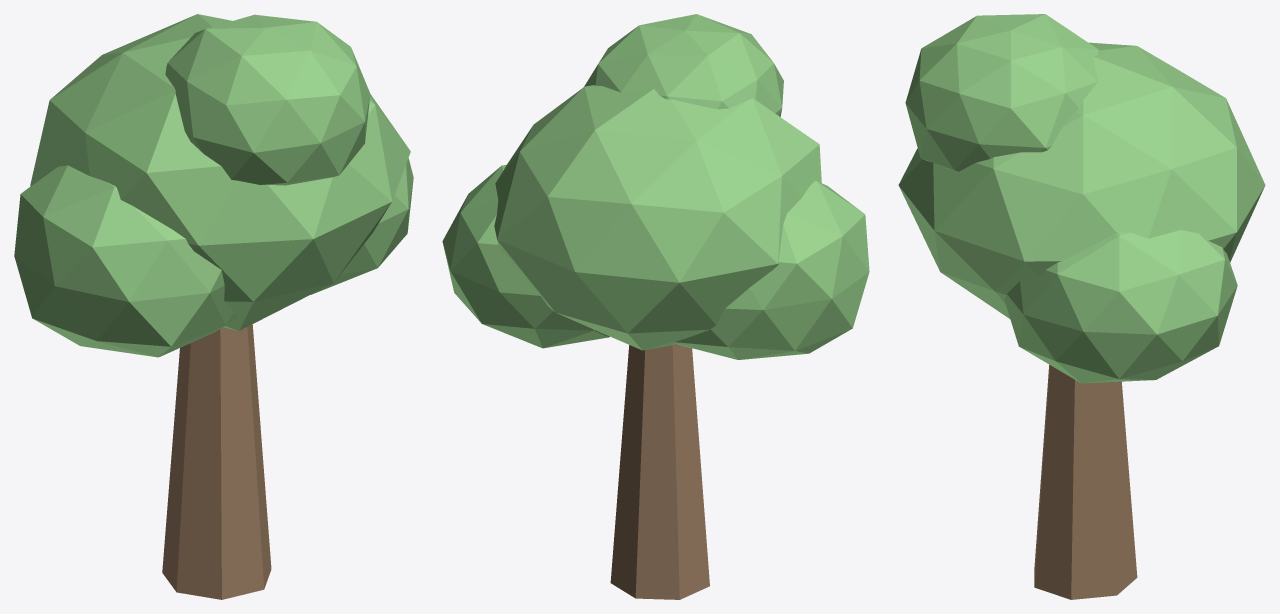
The model's file is tree_v2.glb.
3 views of the same model, side by side, from view 1: azimuth 30°, elevation 25°; view 2: azimuth 150°, elevation 25°; view 3: azimuth 270°, elevation 25° (orthographic). The views are drawn at different scales.
Parts seen in each view (by area): view 1: Tree_Canopy, Tree_Trunk; view 2: Tree_Canopy, Tree_Trunk; view 3: Tree_Canopy, Tree_Trunk.
Part boxes in pixels (box(x1,y1,x2,y2)): Tree_Canopy: box(14, 14, 413, 357); Tree_Trunk: box(162, 324, 271, 599); Tree_Canopy: box(442, 14, 869, 359); Tree_Trunk: box(610, 344, 709, 599); Tree_Canopy: box(898, 14, 1265, 383); Tree_Trunk: box(1034, 365, 1137, 599).
Bounding box in the file's own units: 3.7 × 5.07 × 3.05.
